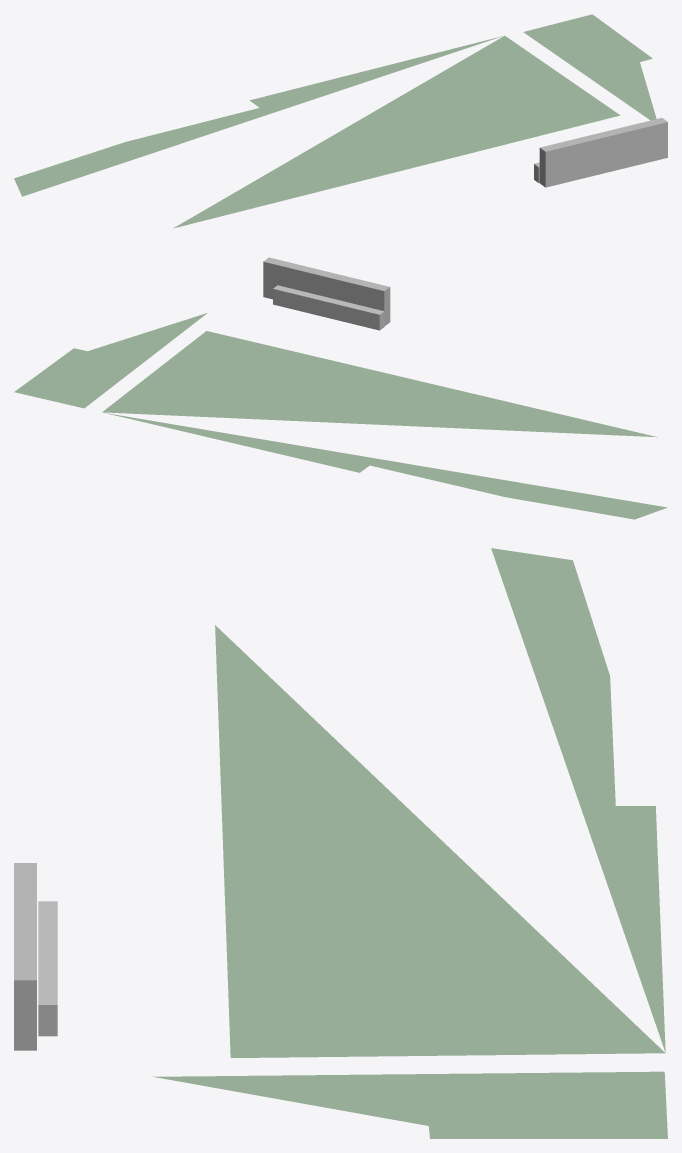
File: 132_109_mid.glb
The picture shows the model from 3 angles, top to bottom: view 1: azimuth 30°, elevation 25°; view 2: azimuth 150°, elevation 25°; view 3: azimuth 270°, elevation 25°; orthographic projection. The views are drawn at different scales.
Size of the model in its own units: 486 by 27.44 by 228.
